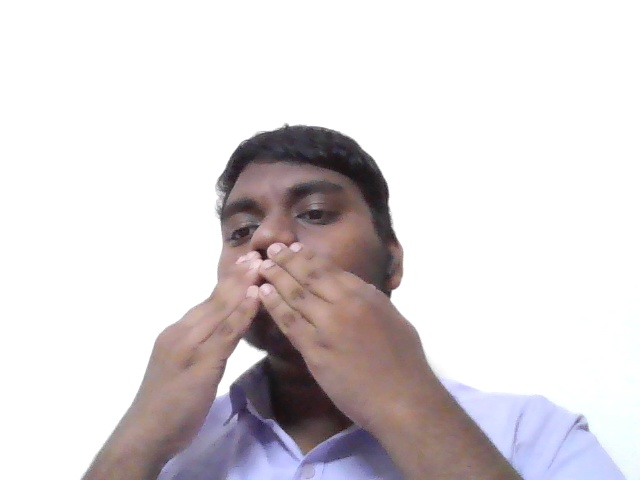Thank you: (98, 237, 462, 451)
